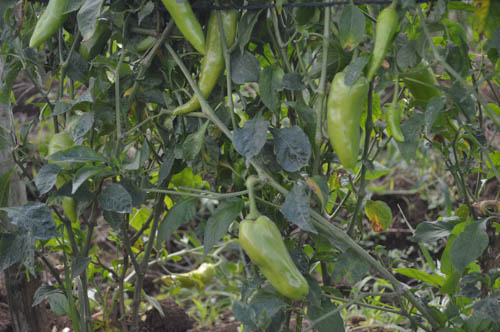ChiliPepper: (172, 8, 233, 117), (240, 217, 312, 297), (327, 75, 368, 167), (402, 63, 455, 132), (368, 10, 396, 83), (29, 4, 67, 53), (169, 5, 206, 53), (384, 108, 406, 143)
